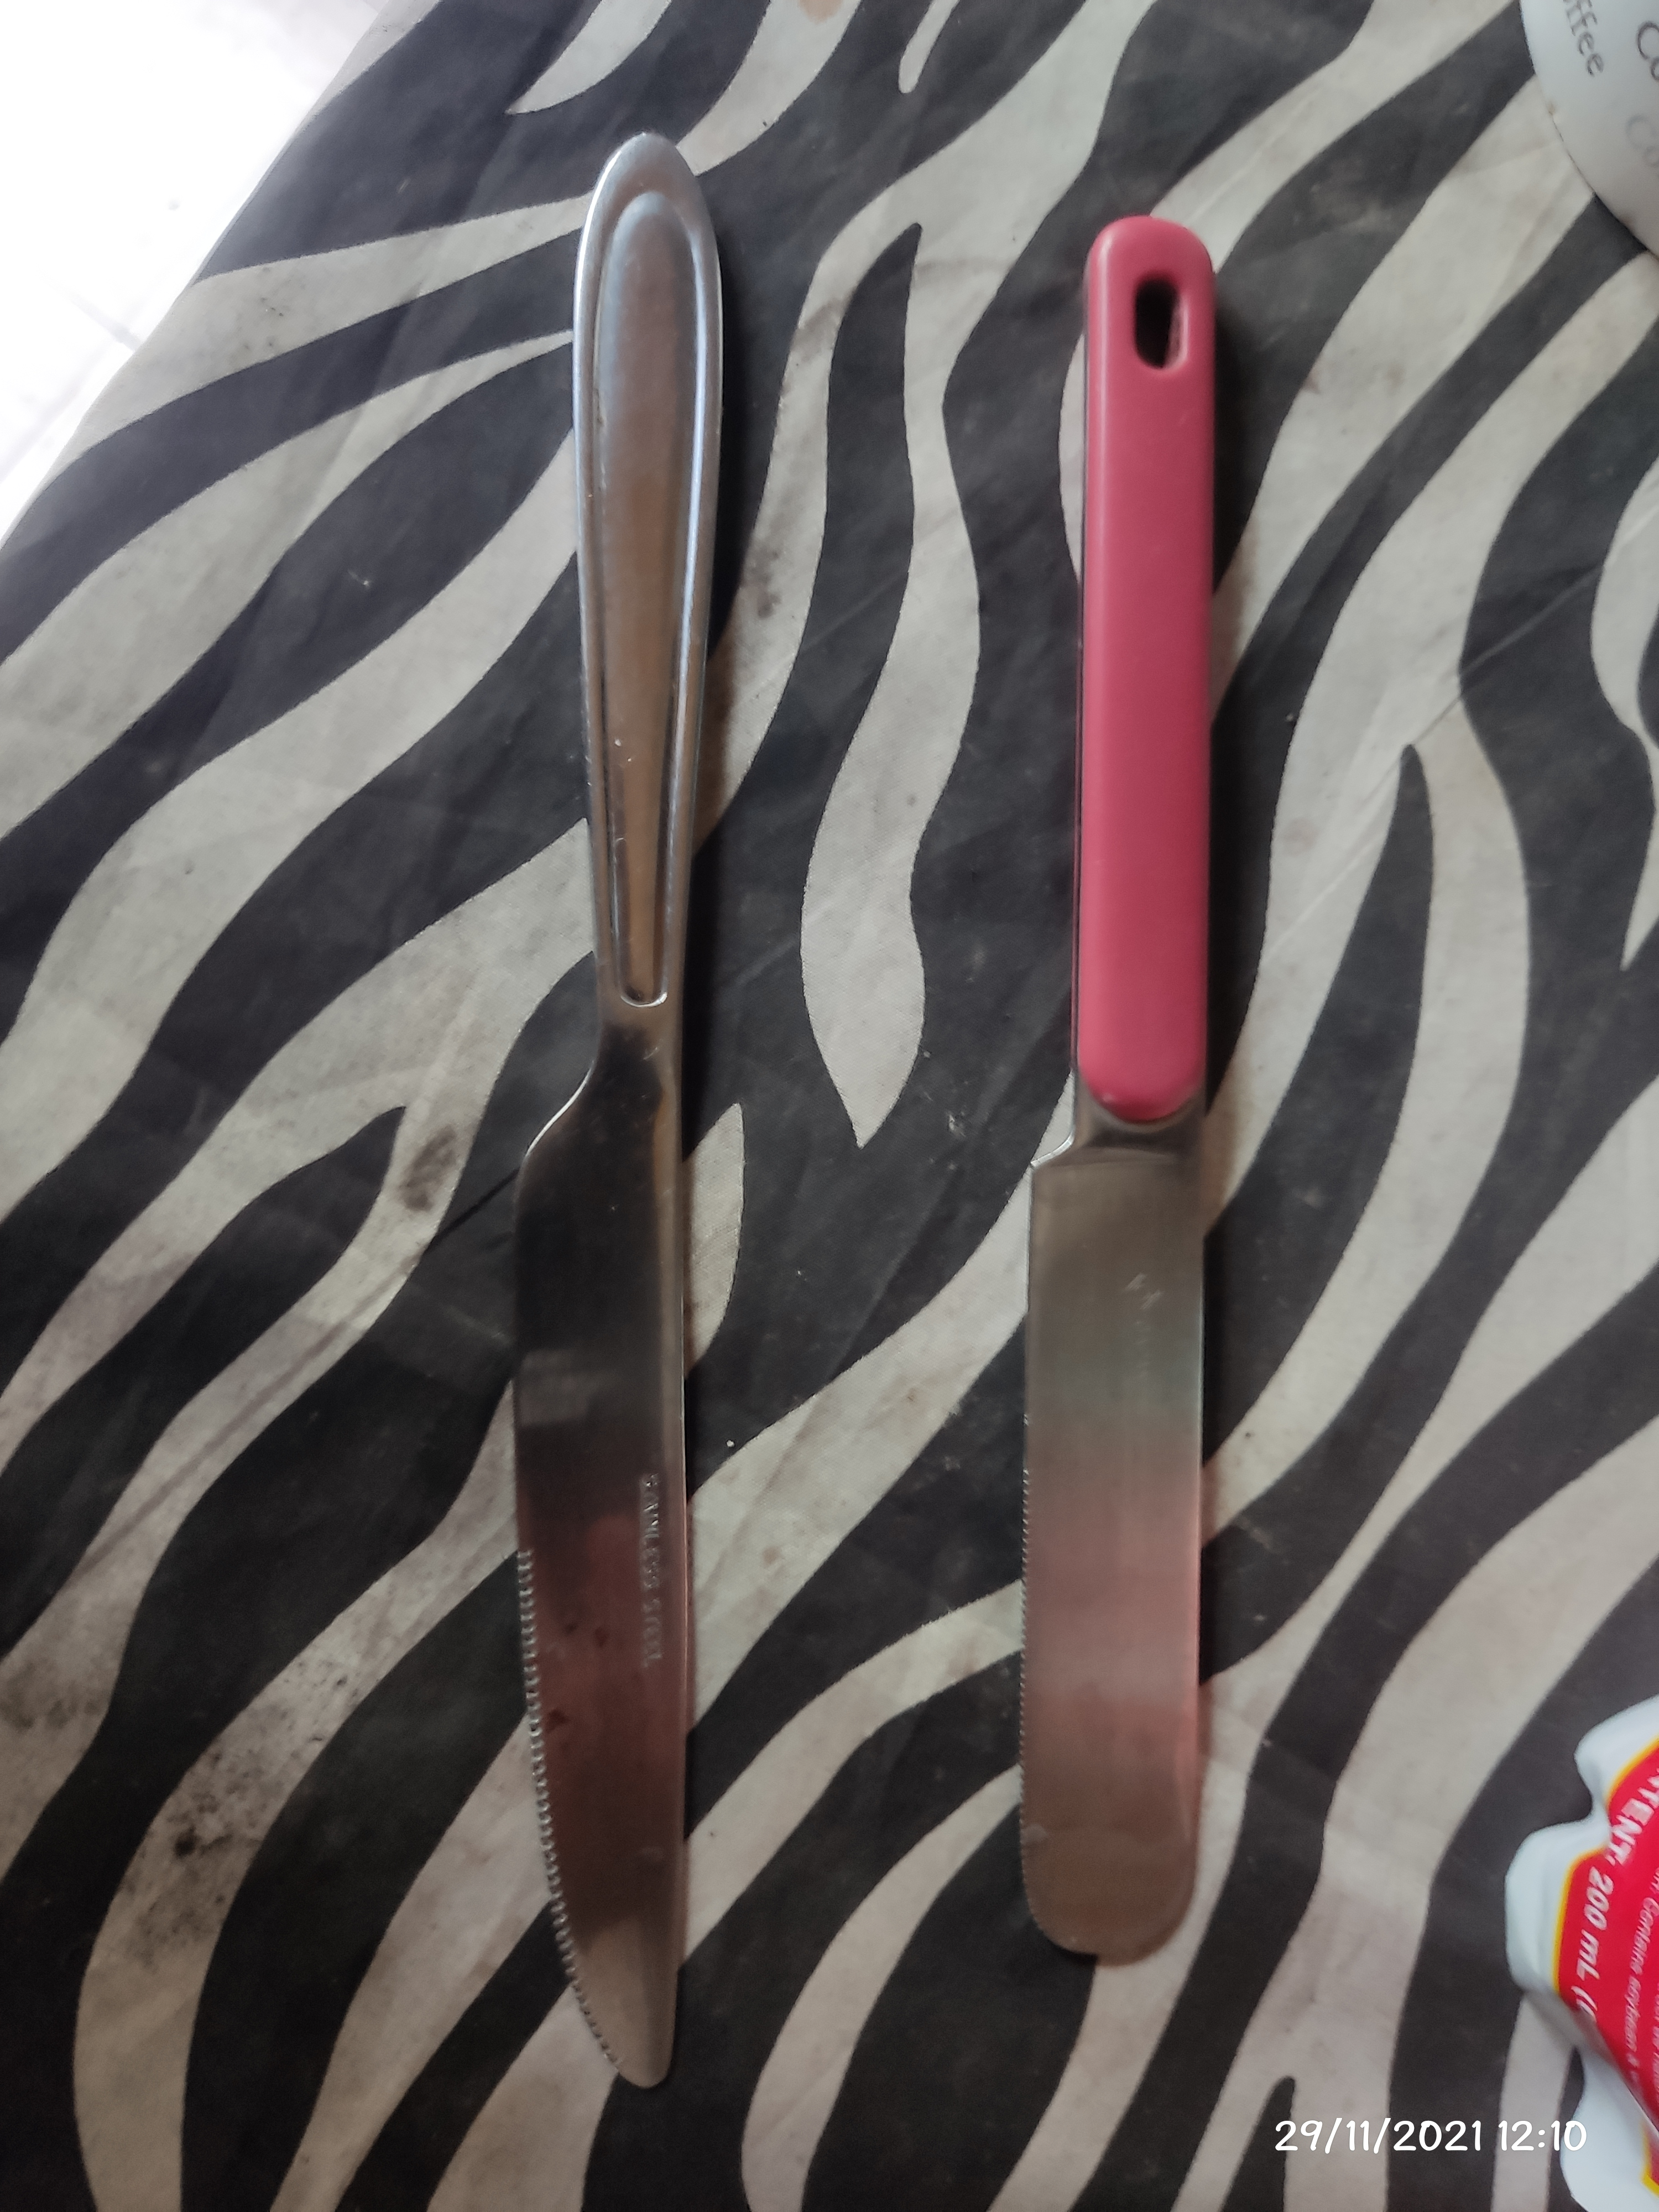knife: (523, 127, 732, 2085)
